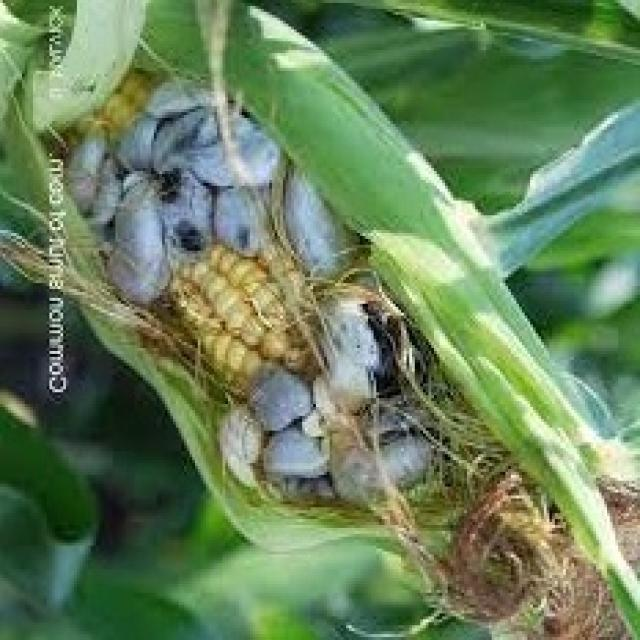Leaf_Scald: (32, 29, 539, 544)
